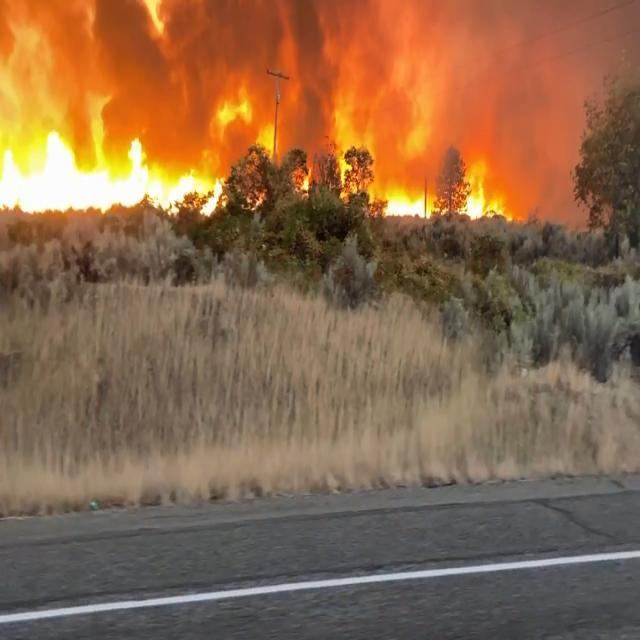Fire: (0, 0, 503, 220)
